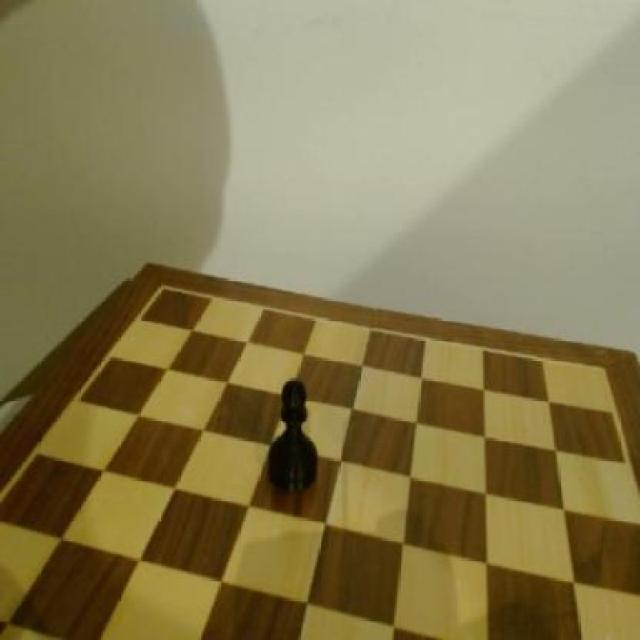black-knight: (264, 368, 324, 500)
